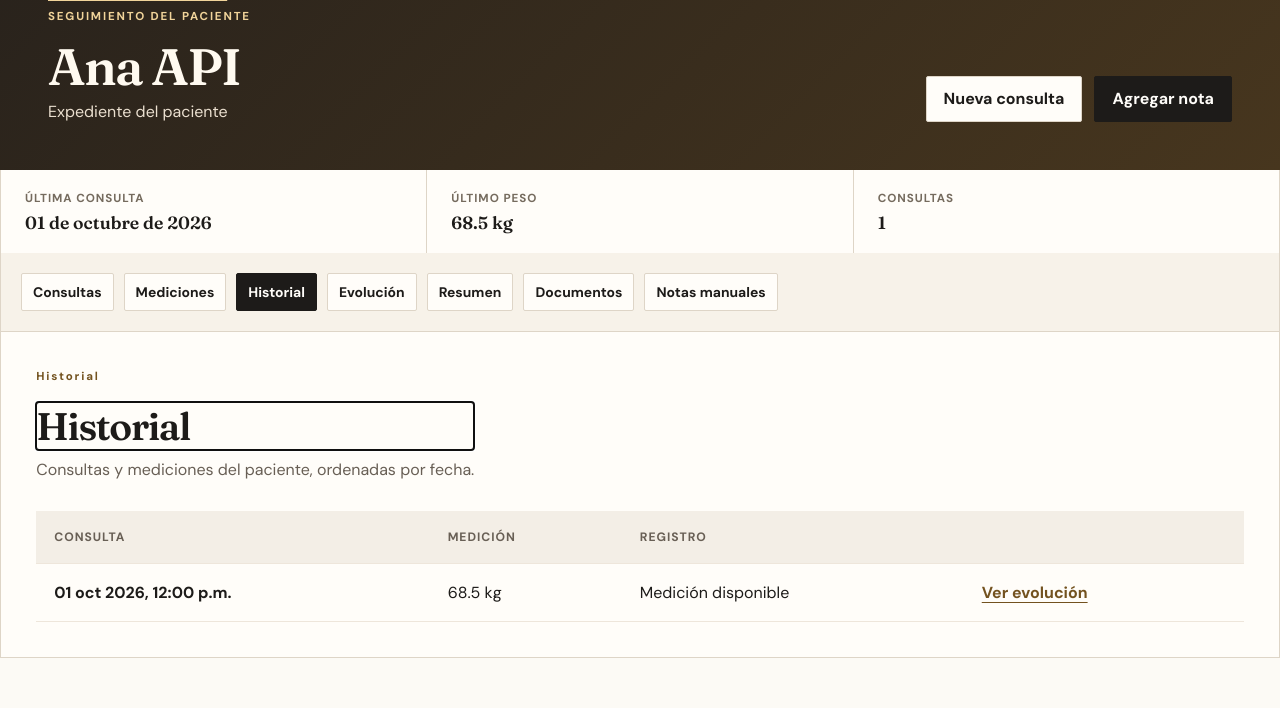
Scenario: seguimiento conectado a API › crea una consulta y utiliza la selección recién creada en formularios posteriores
This screenshot has width=1280, height=708.
Click the button "Consultas": x=67, y=292 [21,273,114,311]
(page scrolled)
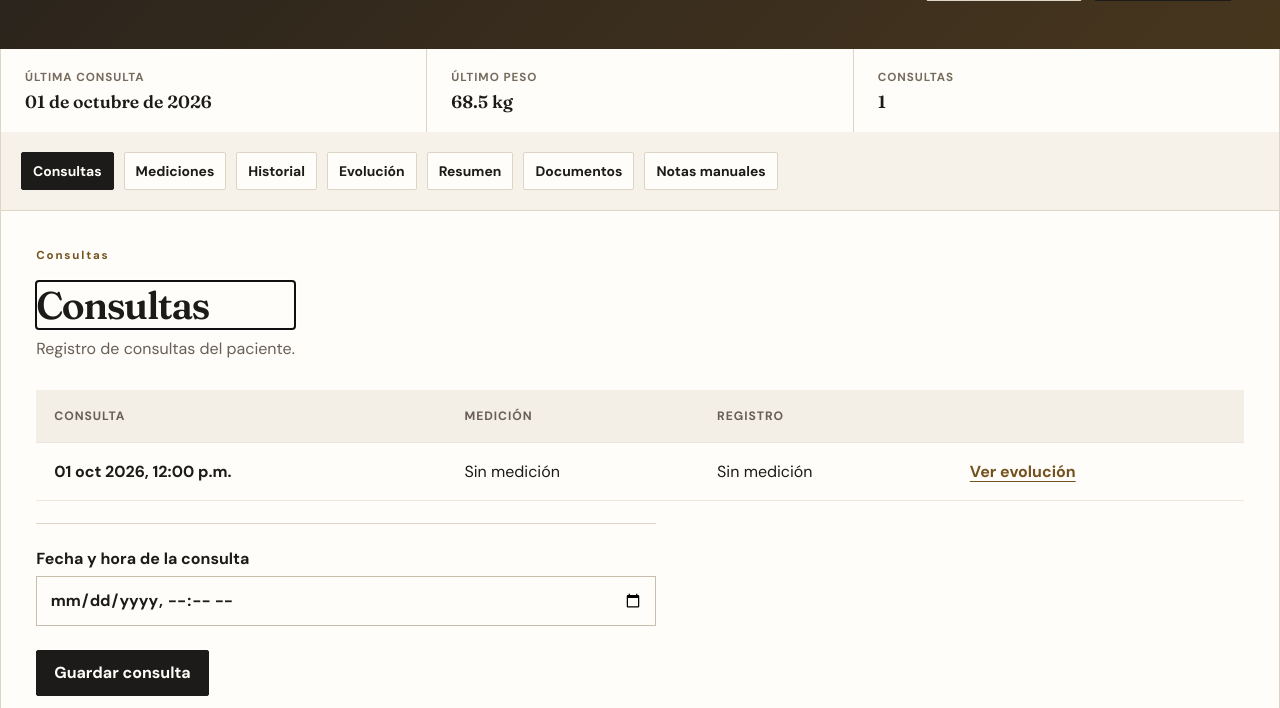
In the field labelled "Fecha y hora de la consulta": x=346, y=601 [36,576,656,626], type "2026-10-02T06:00"
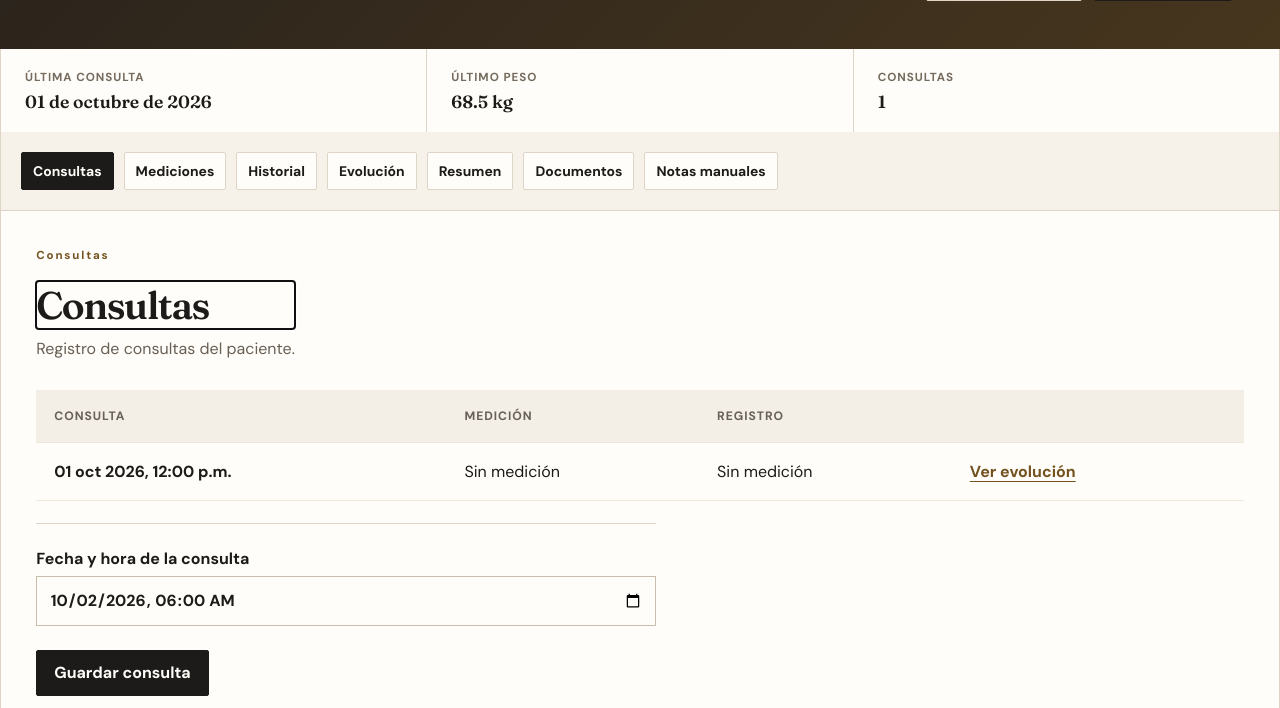
Click the button "Guardar consulta": x=122, y=673 [36,650,209,696]
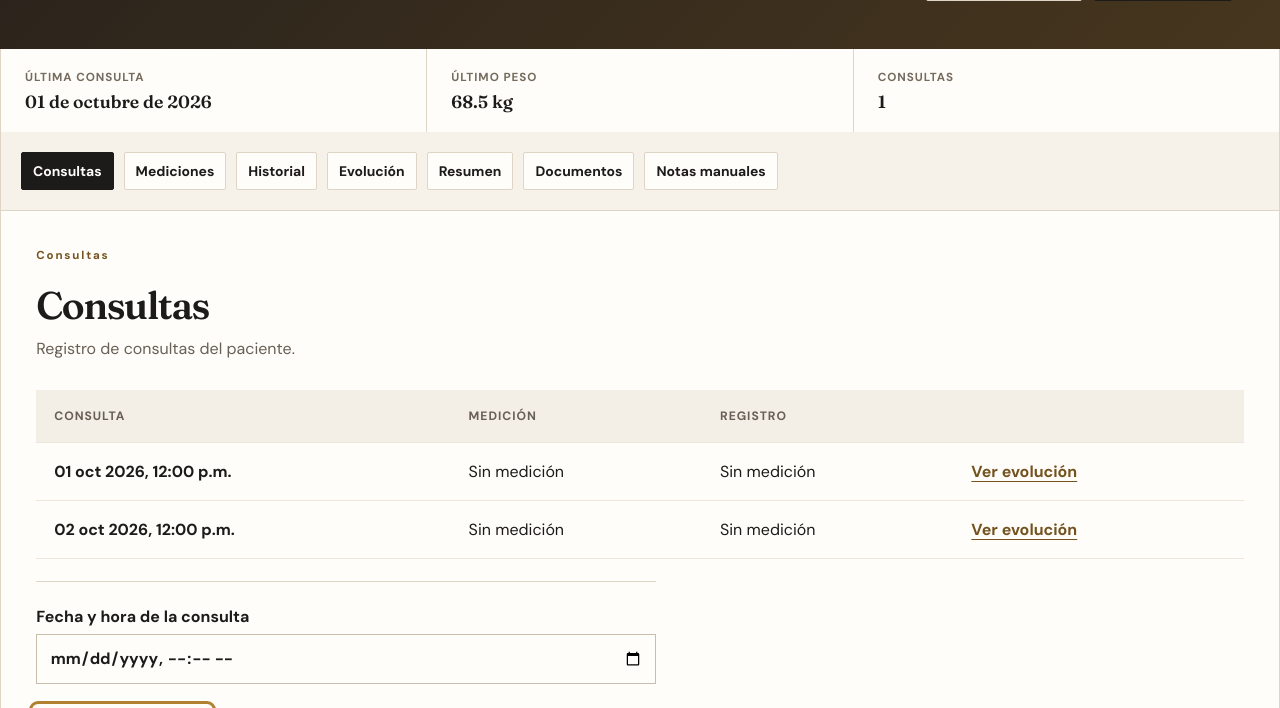
Click the button "Mediciones": x=175, y=171 [124,152,226,190]
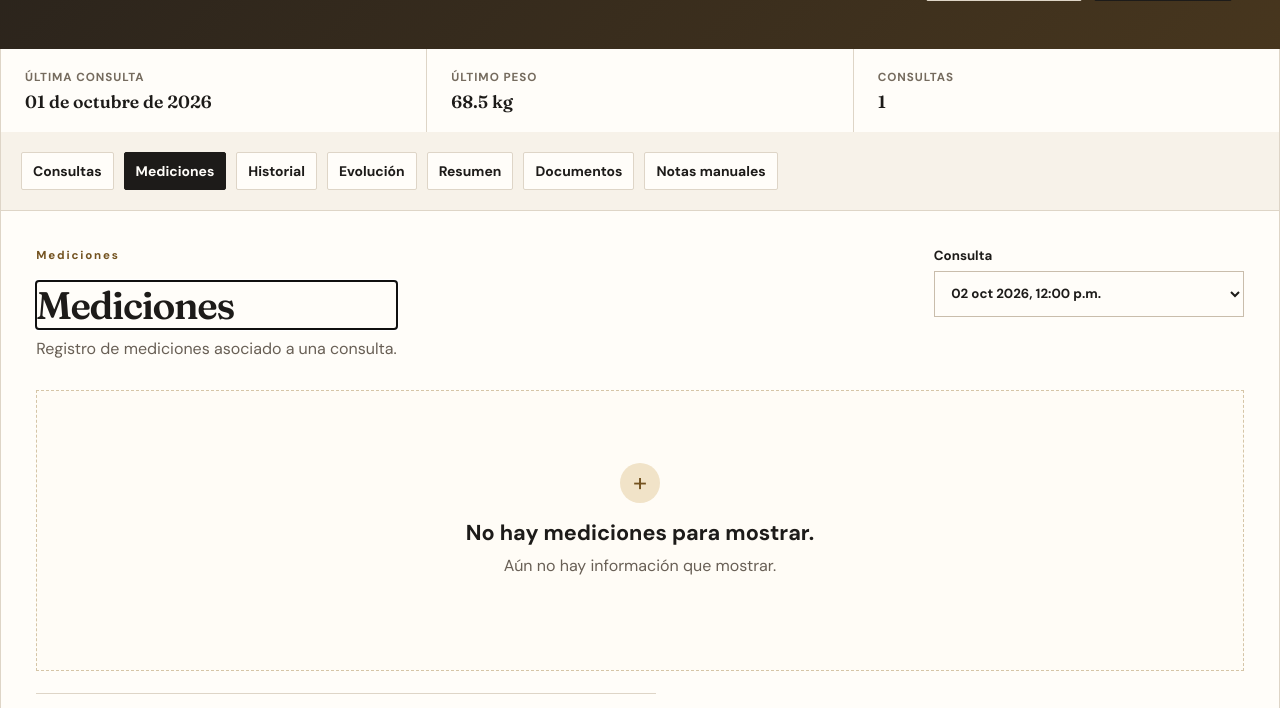
expect the dropdown labelled "Consulta" shows "02 oct 2026, 12:00 p.m.": met, box [934,271,1244,317]
